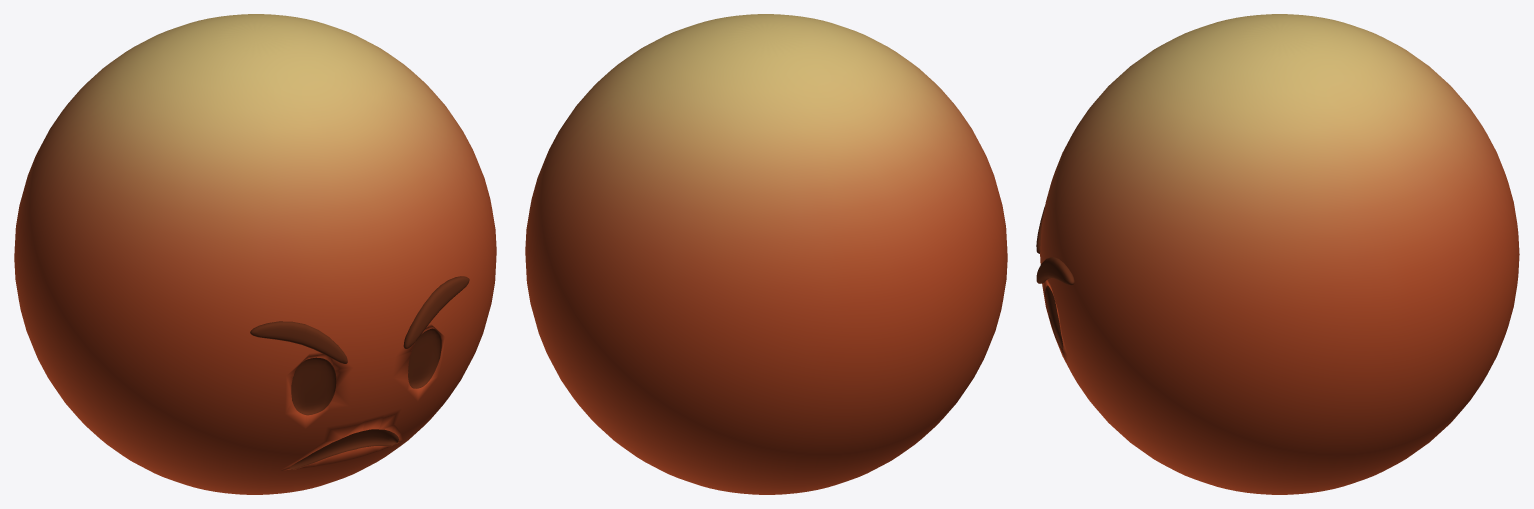
File: pouting-face-fsLhoIa_.glb
The picture shows the model from 3 angles, left to right: view 1: azimuth 30°, elevation 25°; view 2: azimuth 150°, elevation 25°; view 3: azimuth 270°, elevation 25°; orthographic projection.
Visible parts, largest first — view 1: PoutingFace; view 2: PoutingFace; view 3: PoutingFace.
Part boxes in pixels (x1,y1,x2,y2): PoutingFace: [14, 14, 496, 494]; PoutingFace: [525, 14, 1007, 494]; PoutingFace: [1036, 14, 1519, 494].
Size of the model in its own units: 2 by 2 by 2.
